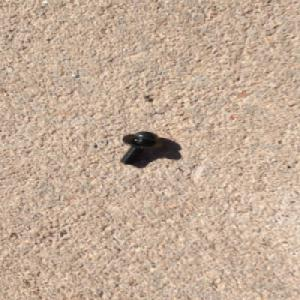BoltWasher: (116, 130, 165, 165)
